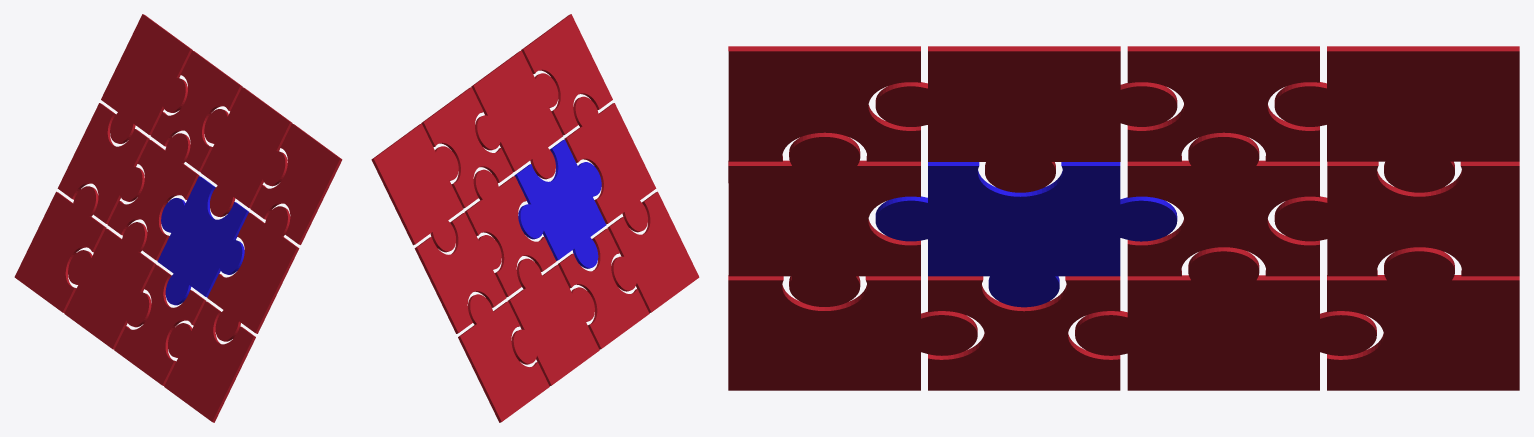
The model's file is H-Puzzle2.fbx.
The picture shows the model from 3 angles, left to right: view 1: azimuth 30°, elevation 25°; view 2: azimuth 150°, elevation 25°; view 3: azimuth 270°, elevation 25°; orthographic projection. The views are drawn at different scales.
Parts seen in each view (by area): view 1: Curve.051; view 2: Curve.051; view 3: Curve.051.
Part boxes in pixels (x1,y1,x2,y2): Curve.051: (14,14,342,422); Curve.051: (371,14,699,422); Curve.051: (728,46,1519,390).
Bounding box in the file's own units: 114 × 196 × 301.
